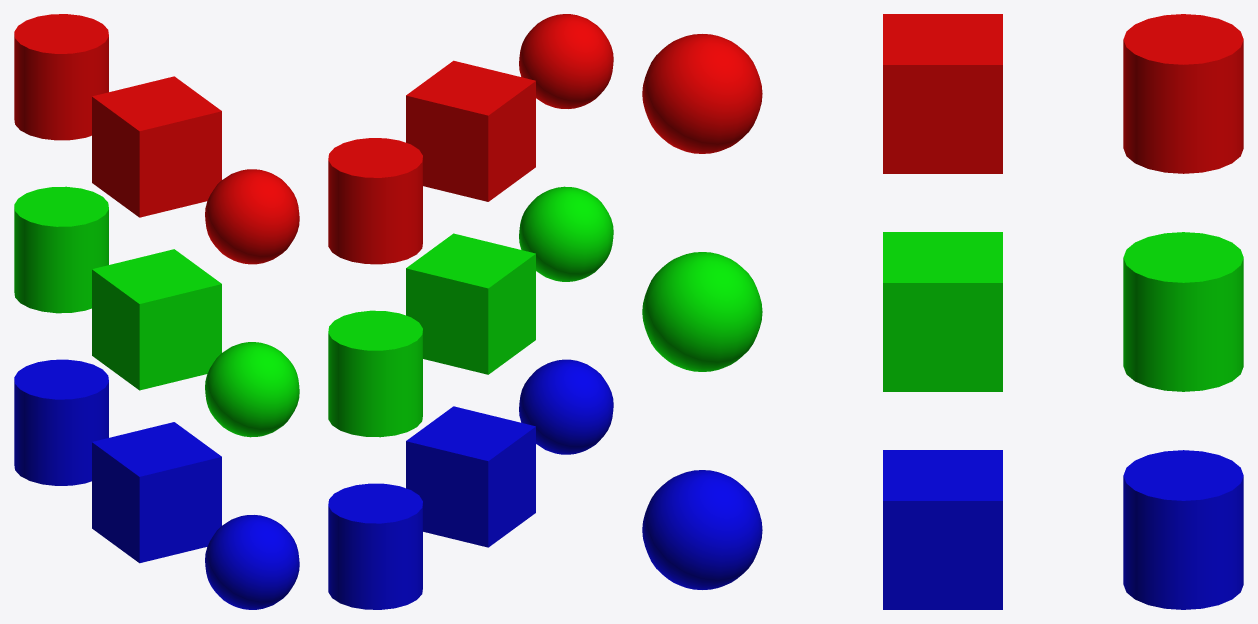
The model's file is test_multi_material.fbx.
3 views of the same model, side by side, from view 1: azimuth 30°, elevation 25°; view 2: azimuth 150°, elevation 25°; view 3: azimuth 270°, elevation 25° (orthographic). The views are drawn at different scales.
Visible parts, largest first — view 1: pCube1, pCube2, pasted__pCube1, pCylinder2, pasted__pCylinder1, pCylinder1, pSphere2, pasted__pSphere1, pSphere1; view 2: pasted__pCube1, pCube1, pCube2, pasted__pCylinder1, pCylinder2, pCylinder1, pasted__pSphere1, pSphere2, pSphere1; view 3: pCube1, pCube2, pasted__pCube1, pCylinder2, pasted__pCylinder1, pCylinder1, pSphere1, pSphere2, pasted__pSphere1.
Part boxes in pixels (x1,y1,x2,y2): pCube1: (92, 249, 221, 390); pCube2: (92, 76, 221, 217); pasted__pCube1: (92, 422, 221, 563); pCylinder2: (14, 14, 108, 140); pasted__pCylinder1: (14, 359, 108, 485); pCylinder1: (14, 186, 108, 313); pSphere2: (205, 169, 299, 264); pasted__pSphere1: (205, 515, 299, 609); pSphere1: (205, 342, 299, 437); pasted__pCube1: (406, 406, 535, 547); pCube1: (406, 233, 535, 374); pCube2: (406, 60, 535, 201); pasted__pCylinder1: (328, 483, 422, 609); pCylinder2: (328, 138, 422, 264); pCylinder1: (328, 310, 422, 437); pasted__pSphere1: (519, 359, 613, 454); pSphere2: (519, 14, 613, 108); pSphere1: (519, 186, 613, 281); pCube1: (883, 232, 1002, 391); pCube2: (883, 14, 1002, 173); pasted__pCube1: (883, 450, 1002, 609); pCylinder2: (1123, 14, 1243, 173); pasted__pCylinder1: (1123, 450, 1243, 609); pCylinder1: (1123, 232, 1243, 391); pSphere1: (642, 252, 762, 371); pSphere2: (642, 34, 762, 153); pasted__pSphere1: (642, 470, 762, 589).
Size of the model in its own units: 1 by 5 by 5.
